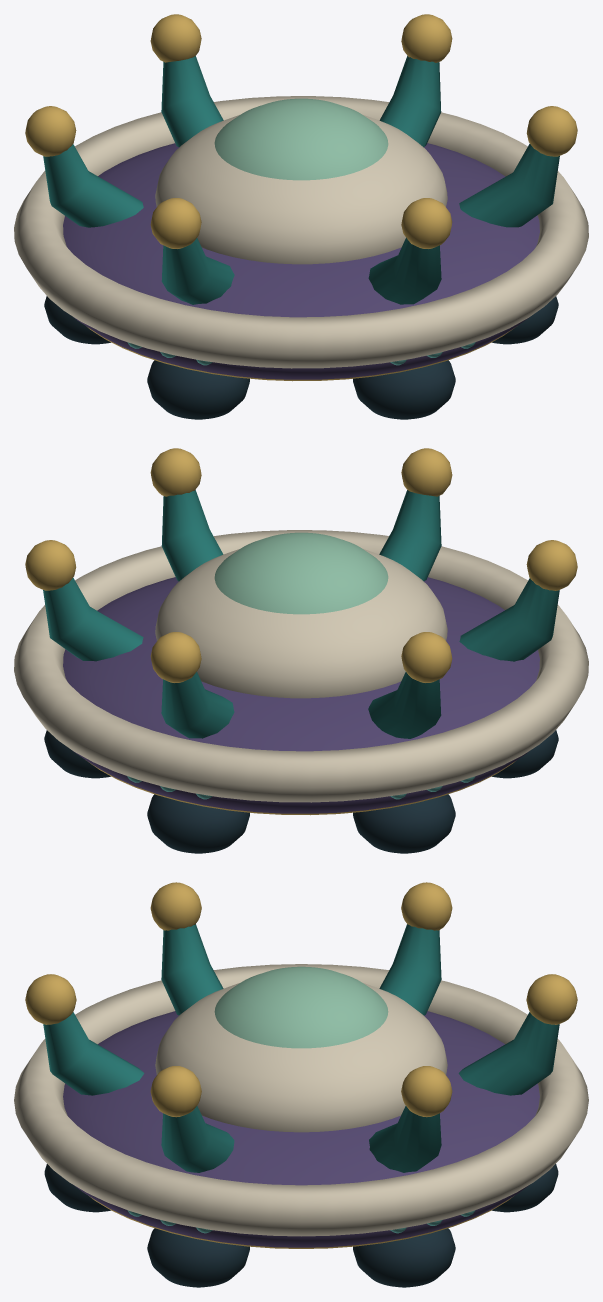
The model's file is alien-boss.glb.
3 views of the same model, one above another, from view 1: azimuth 30°, elevation 25°; view 2: azimuth 150°, elevation 25°; view 3: azimuth 270°, elevation 25° (orthographic).
Parts seen in each view (by area): view 1: shell; view 2: shell; view 3: shell.
Boxes of the visible parts, x1,y1,x2,y2 form: shell: (14, 14, 588, 419); shell: (14, 448, 588, 853); shell: (14, 882, 588, 1287).
Size of the model in its own units: 3.58 by 1.63 by 3.58.
